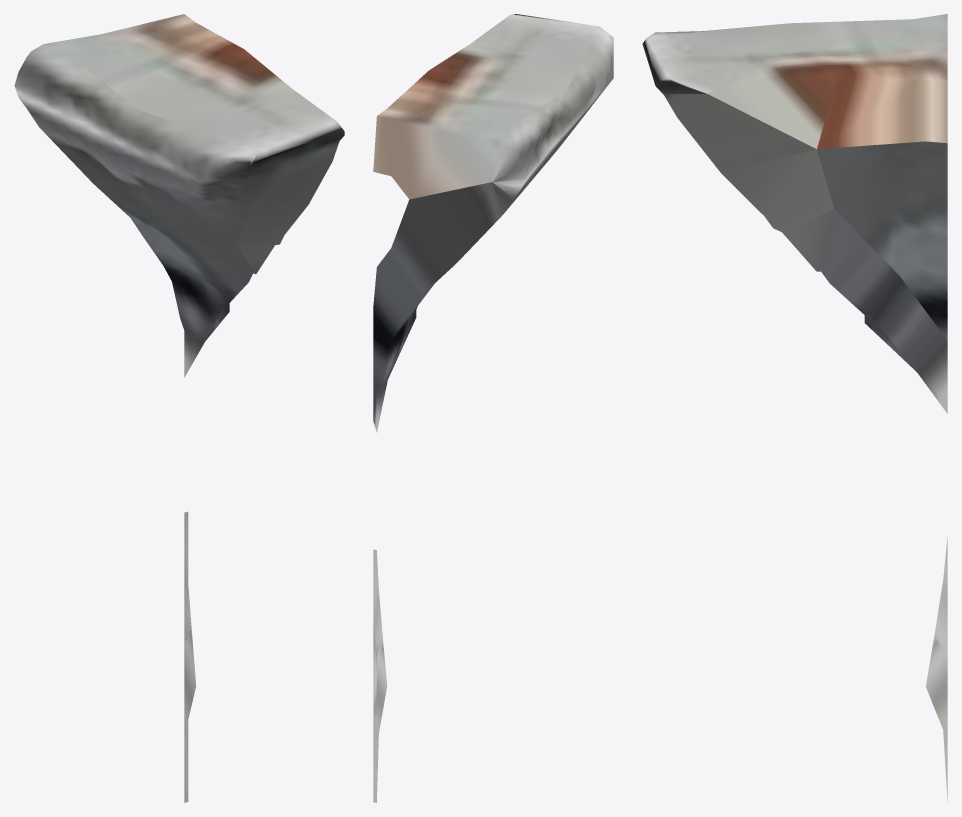
Rendered from z20-167747-405246-h1-yup-uvflip-v3-world.glb.
3 renders of one model, left to right at view 1: azimuth 30°, elevation 25°; view 2: azimuth 150°, elevation 25°; view 3: azimuth 270°, elevation 25°, orthographic. The views are drawn at different scales.
Bounding box in the file's own units: 1.68 × 7.36 × 2.8.
1 material, 1 textured.
